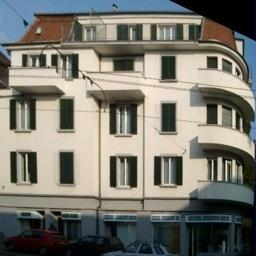building: (4, 11, 256, 256)
